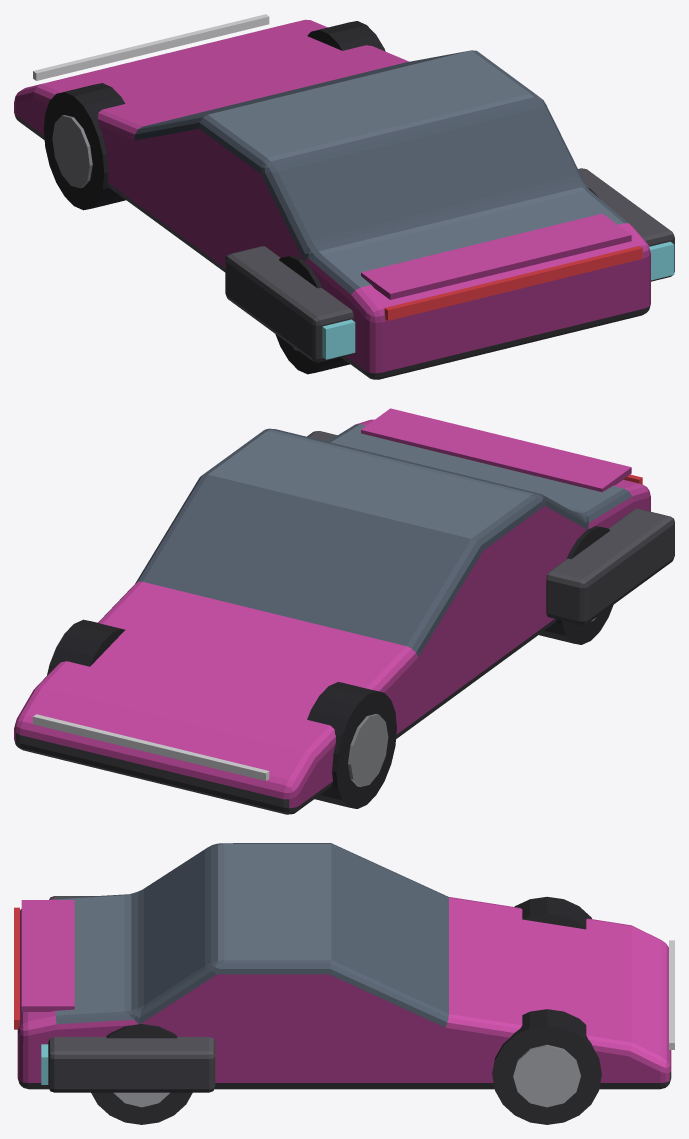
Rendered from volt.glb.
The picture shows the model from 3 angles, top to bottom: view 1: azimuth 30°, elevation 25°; view 2: azimuth 150°, elevation 25°; view 3: azimuth 270°, elevation 25°; orthographic projection. The views are drawn at different scales.
Parts seen in each view (by area): view 1: volt; view 2: volt; view 3: volt.
Part boxes in pixels (x1,y1,x2,y2): volt: [14, 14, 674, 379]; volt: [14, 408, 674, 814]; volt: [14, 843, 674, 1124].
Bounding box in the file's own units: 2.49 × 1.15 × 4.35.
